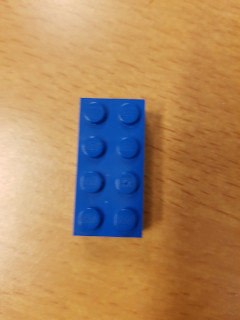2x4 blue: (71, 95, 145, 240)
